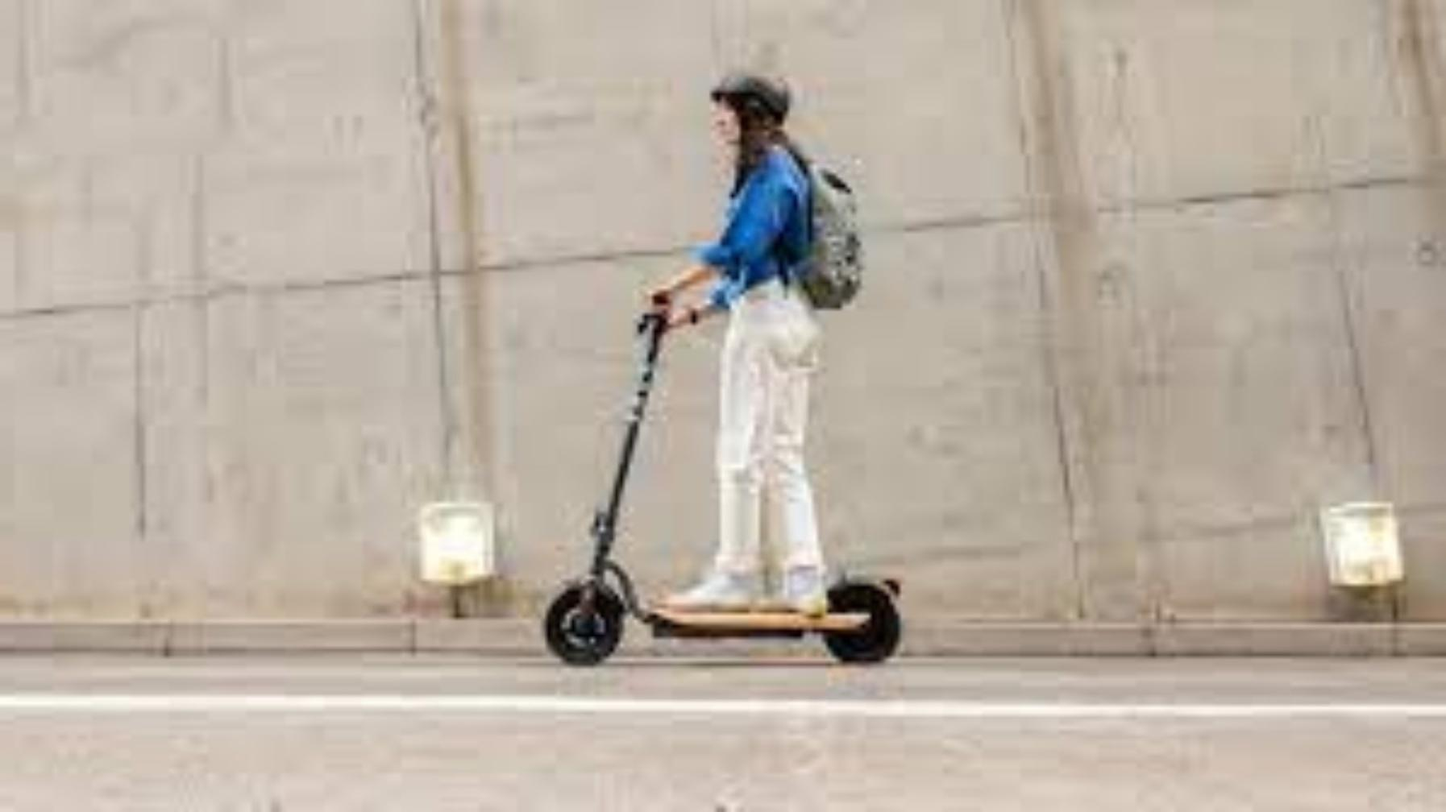helmet: (688, 62, 823, 168)
human: (624, 69, 837, 597)
kickboard: (530, 574, 909, 663)
